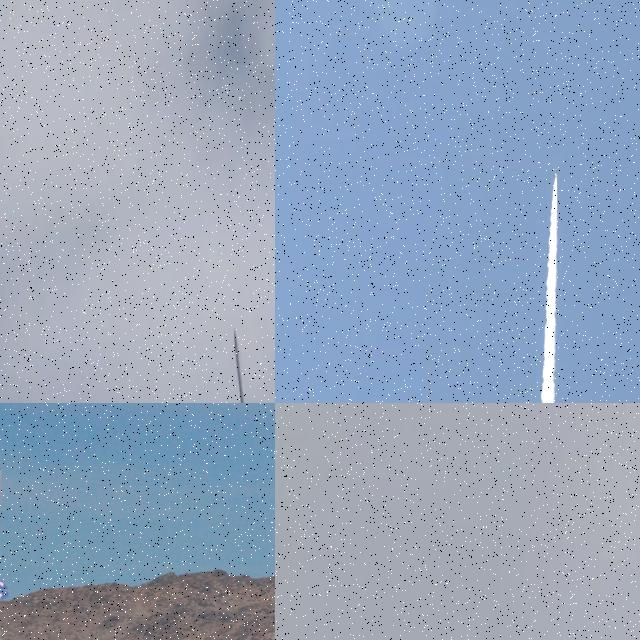Rocket: (0, 450, 10, 607), (233, 327, 249, 403), (555, 168, 558, 180)
